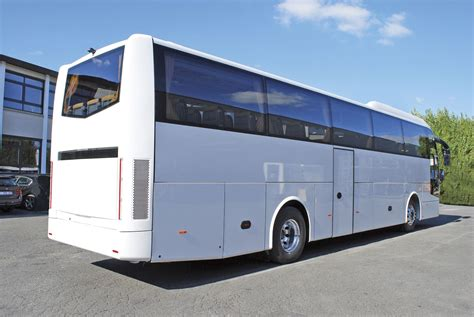bus: (47, 39, 438, 259)
